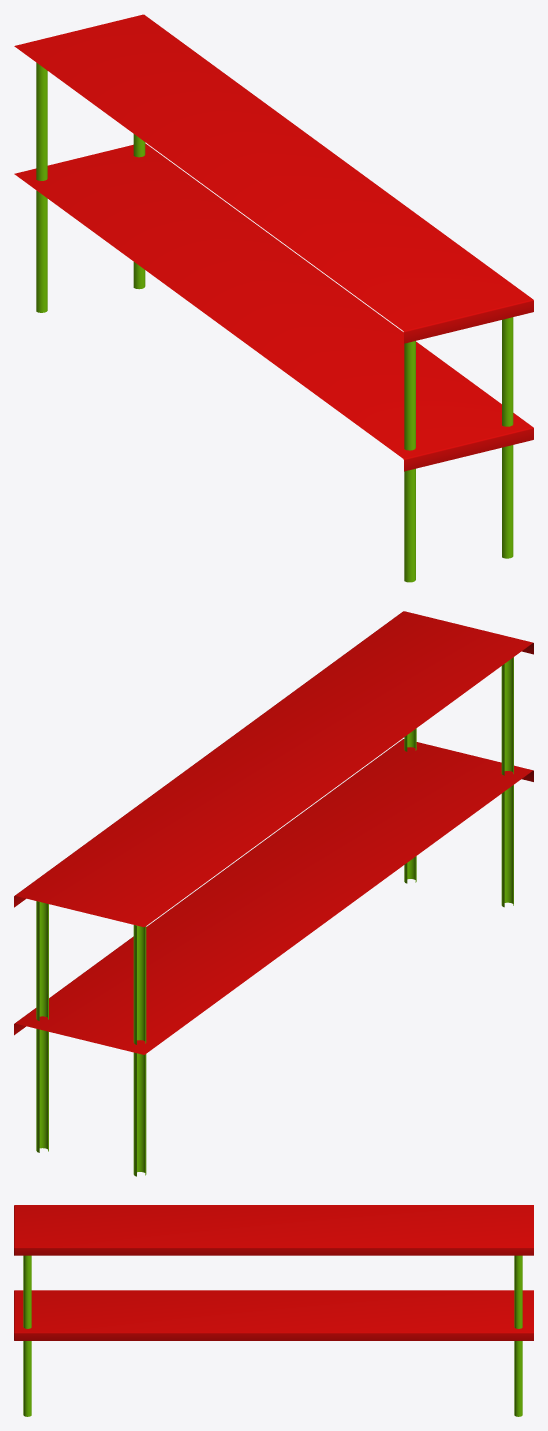
File: shelf.fbx
3 views of the same model, one above another, from view 1: azimuth 30°, elevation 25°; view 2: azimuth 150°, elevation 25°; view 3: azimuth 270°, elevation 25° (orthographic). The views are drawn at different scales.
Visible parts, largest first — view 1: Cube.002; view 2: Cube.002; view 3: Cube.002.
Part boxes in pixels (x1,y1,x2,y2): Cube.002: [14, 14, 533, 582]; Cube.002: [14, 611, 533, 1176]; Cube.002: [14, 1205, 533, 1416].
Bounding box in the file's own units: 7.52 × 38.87 × 14.28.
